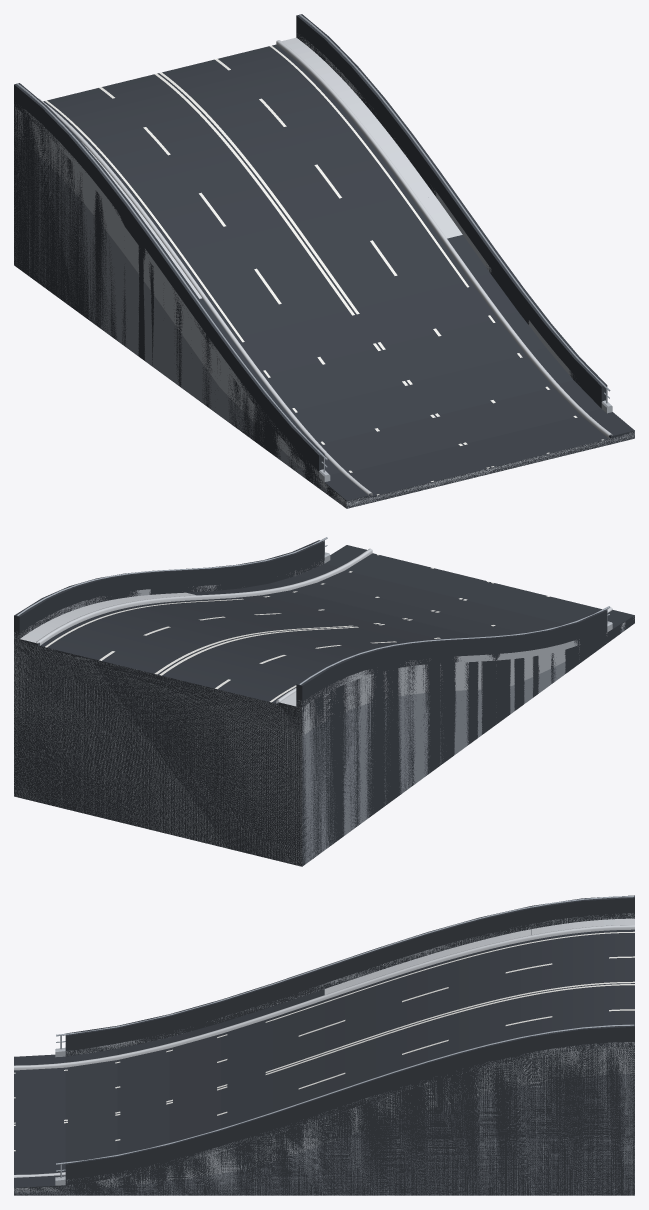
File: rampa_viaduto_avenida.glb
3 views of the same model, one above another, from view 1: azimuth 30°, elevation 25°; view 2: azimuth 150°, elevation 25°; view 3: azimuth 270°, elevation 25° (orthographic). The views are drawn at different scales.
Visible parts, largest first — view 1: colisao_rampa, rampa_viaduto_avenida; view 2: colisao_rampa, rampa_viaduto_avenida; view 3: colisao_rampa, rampa_viaduto_avenida.
Part boxes in pixels (x1,y1,x2,y2): colisao_rampa: [14, 14, 634, 508]; rampa_viaduto_avenida: [14, 14, 634, 508]; colisao_rampa: [14, 540, 634, 866]; rampa_viaduto_avenida: [14, 537, 634, 866]; colisao_rampa: [14, 895, 634, 1195]; rampa_viaduto_avenida: [14, 896, 634, 1195].
Size of the model in its own units: 15 by 9.03 by 30.
1 material, 1 textured.
